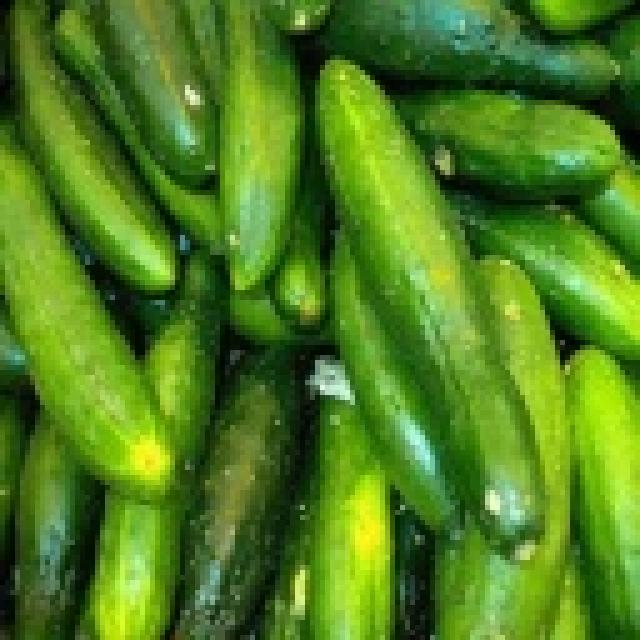Cucumber: (313, 56, 462, 323), (415, 307, 550, 561), (190, 345, 301, 640), (33, 287, 174, 495), (290, 390, 395, 640), (212, 31, 306, 292), (565, 340, 640, 635), (444, 86, 623, 206)
